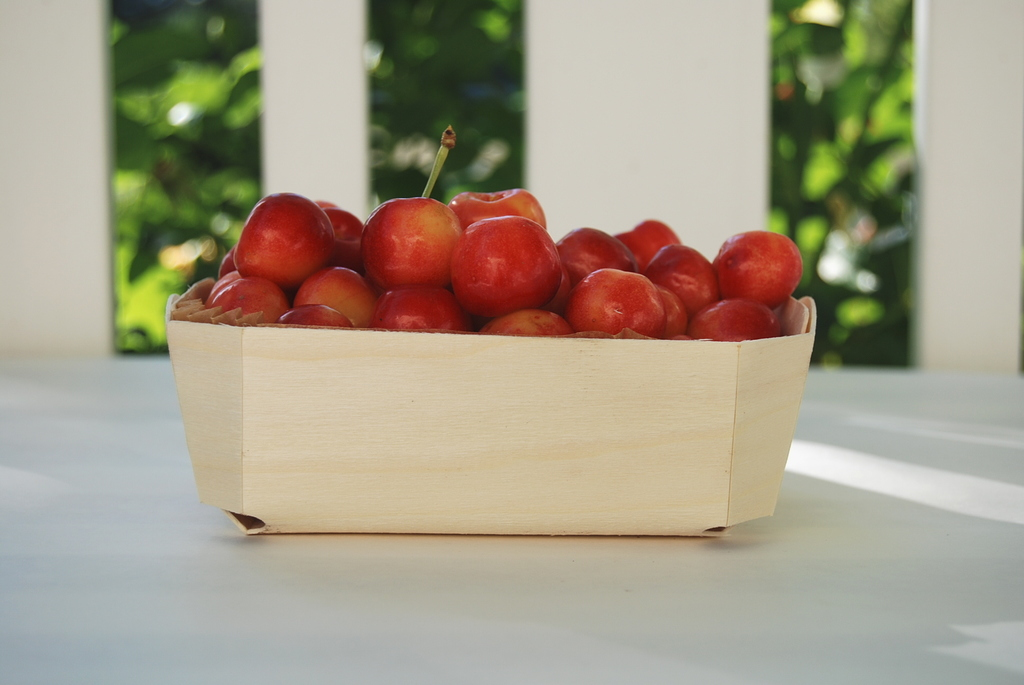Apple: (204, 127, 803, 334), (240, 188, 334, 287)
